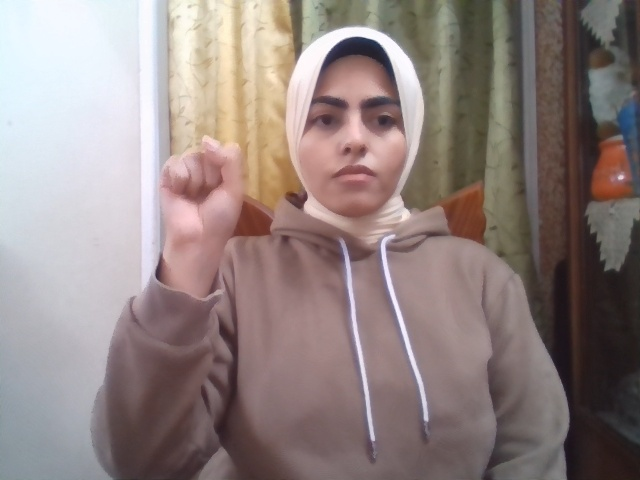S: (158, 136, 243, 251)
